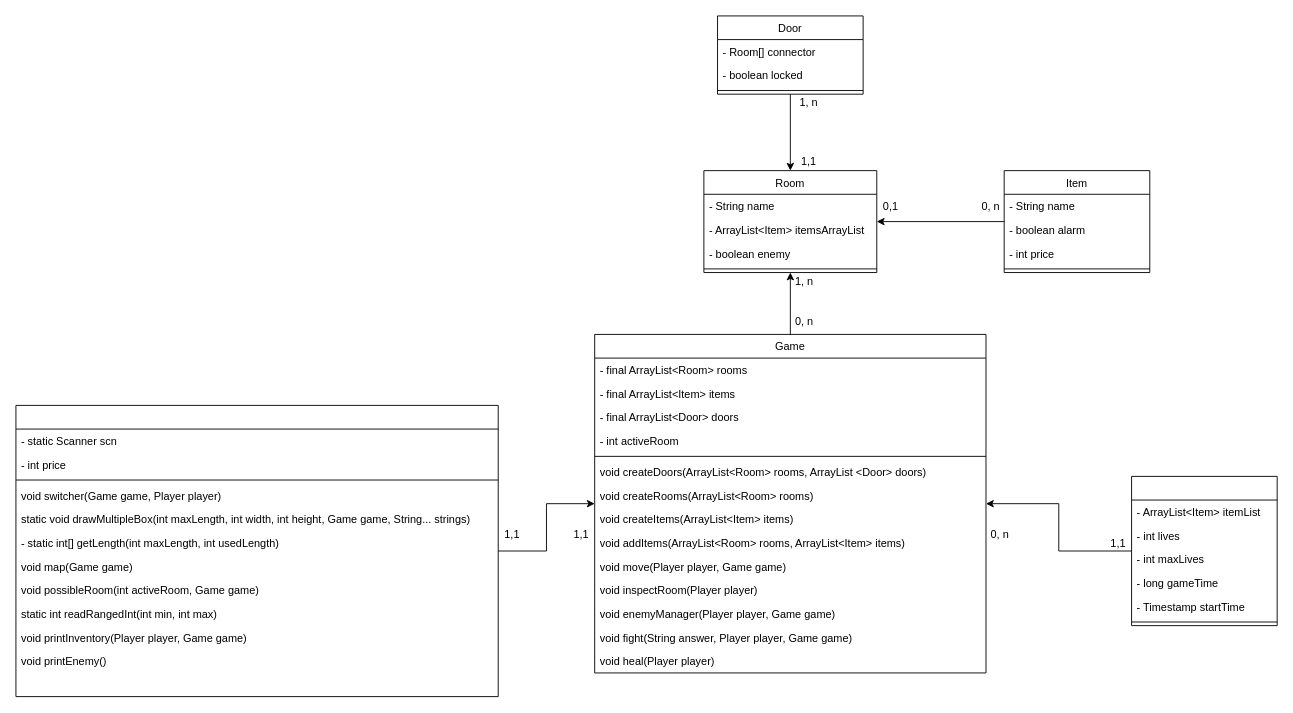
This 1293x713 diagram has some shape labels left out. The box of each missing label's shape, as (x1, y1, x2, y2) in pixels:
IO: (15, 404, 498, 697)
Player: (1131, 475, 1277, 626)
